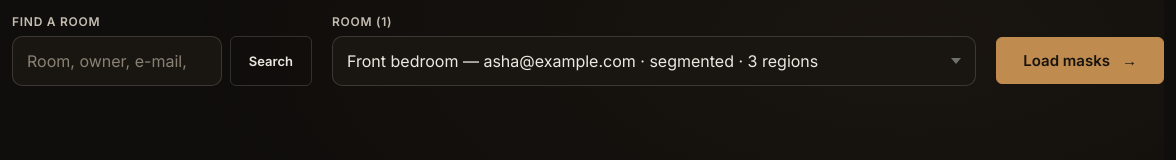
Test: MaskViewer — reaching rooms the admin does not own › puts the whole platform behind one search box
Type "asha@shop.test" into the search field labelled "Find a room" at (117,61), box [12,36,222,86]
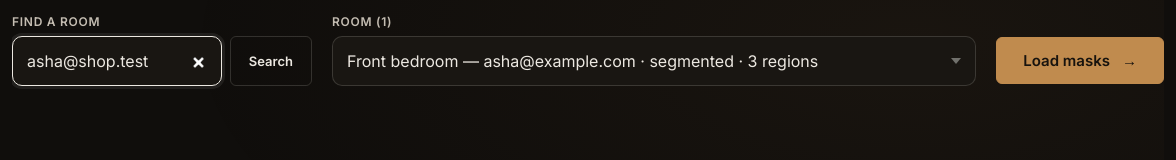
Click the button "Search" at (271,61), box [230,36,312,86]
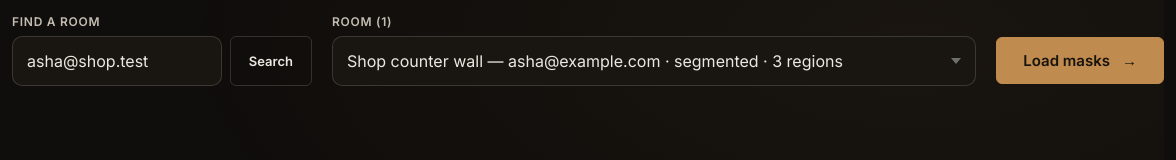
Result: the dropdown labelled "Room (1)" shows "Shop counter wall — asha@example.com · segmented · 3 regions" at [332,36,976,86]
